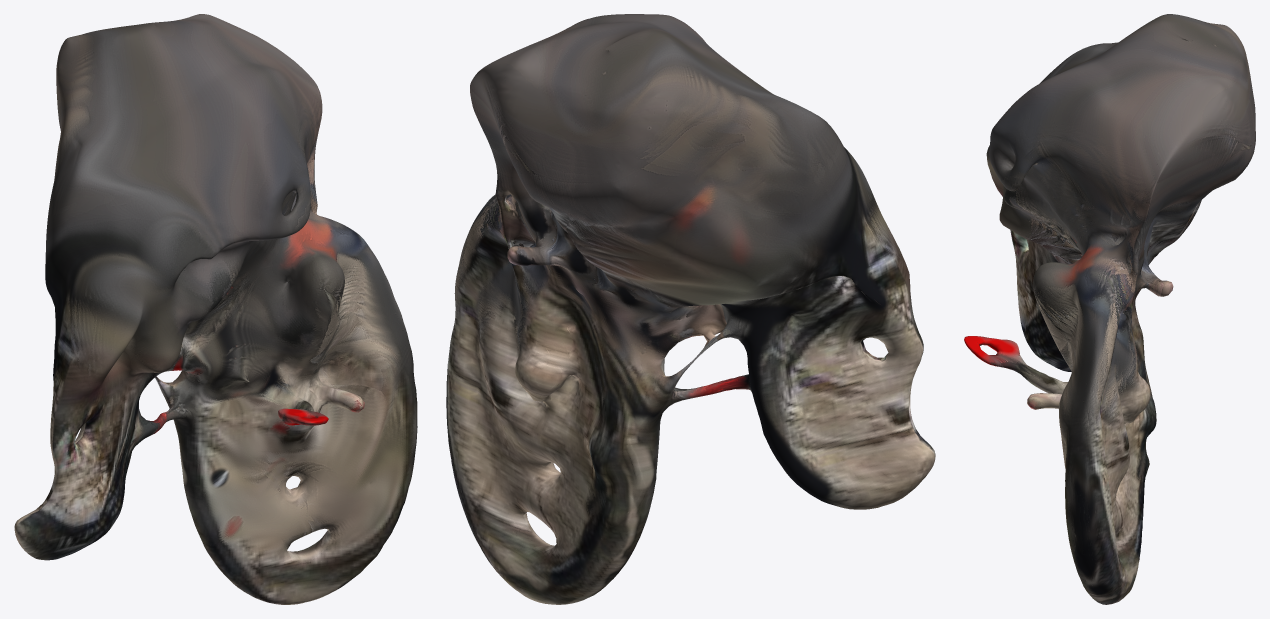
File: bicycle_b.gltf
3 renders of one model, left to right at view 1: azimuth 30°, elevation 25°; view 2: azimuth 150°, elevation 25°; view 3: azimuth 270°, elevation 25°, orthographic. The views are drawn at different scales.
Parts seen in each view (by area): view 1: bicycle; view 2: bicycle; view 3: bicycle.
Part boxes in pixels (x1,y1,x2,y2): bicycle: (14,14,417,604); bicycle: (446,14,935,604); bicycle: (964,14,1255,604).
Size of the model in its own units: 0.7643 by 1 by 0.5074.
Materials: 1 (1 with a texture image).
